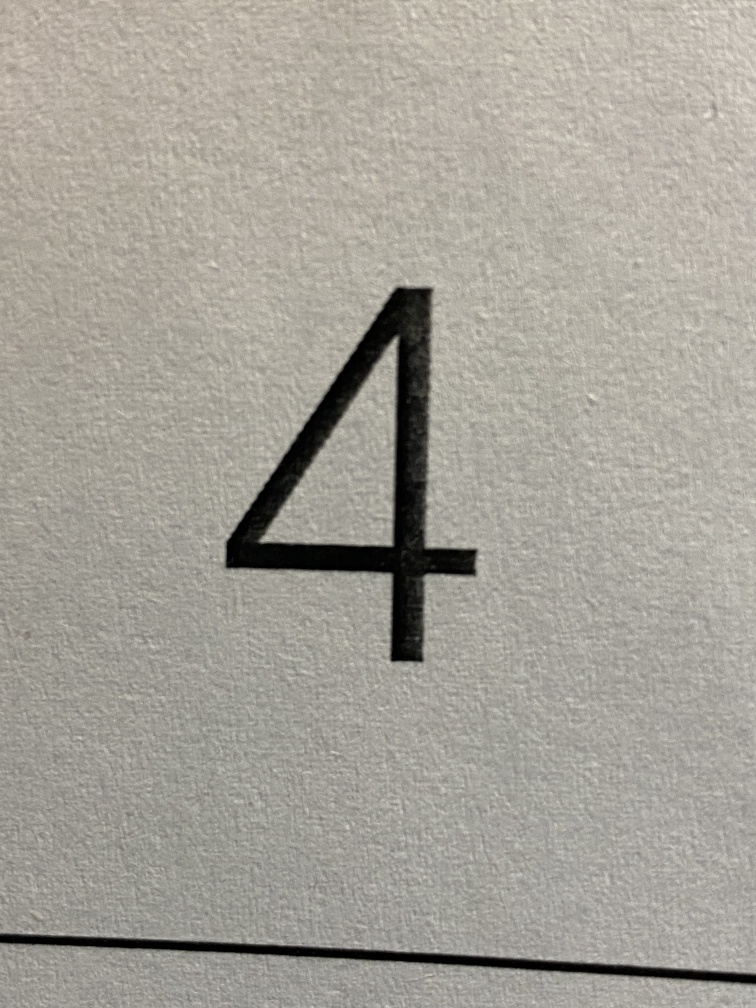four: (192, 239, 543, 725)
